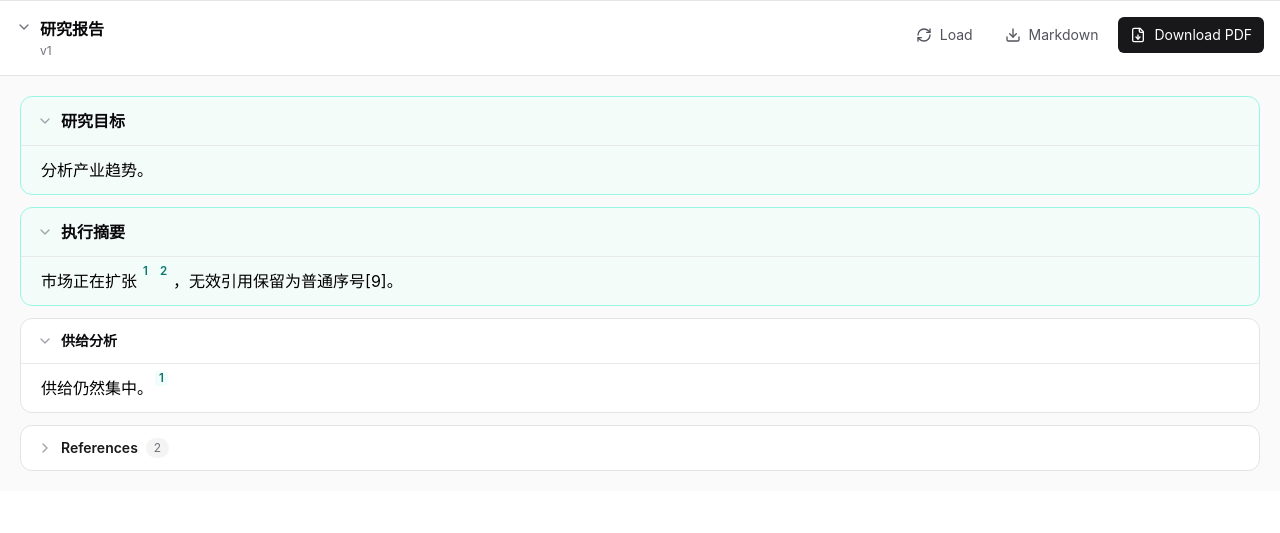
ReportPanel › shows the backend PDF error and allows retry
This screenshot has width=1280, height=533.
Click the button "Download PDF": (1191, 35) [1118,17,1264,53]
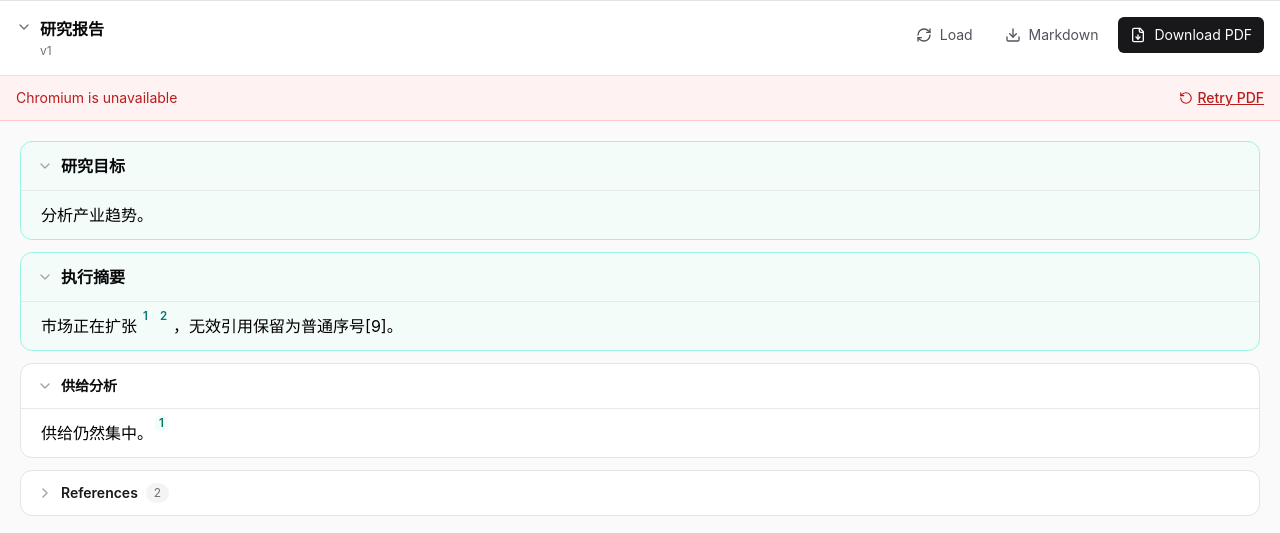
Expected: the message shows "Chromium is unavailable", [16,89,177,106]
Expected: the button "Retry PDF" is shown, [1179,88,1264,108]
